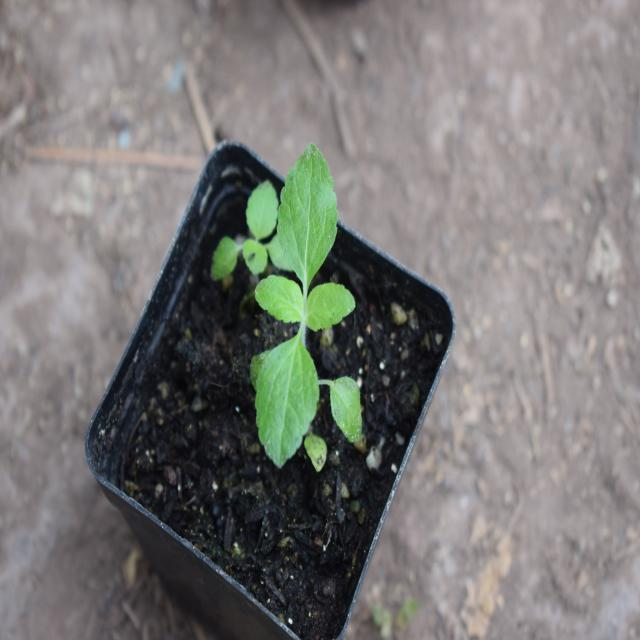billygoat_weed: (253, 134, 364, 460)
